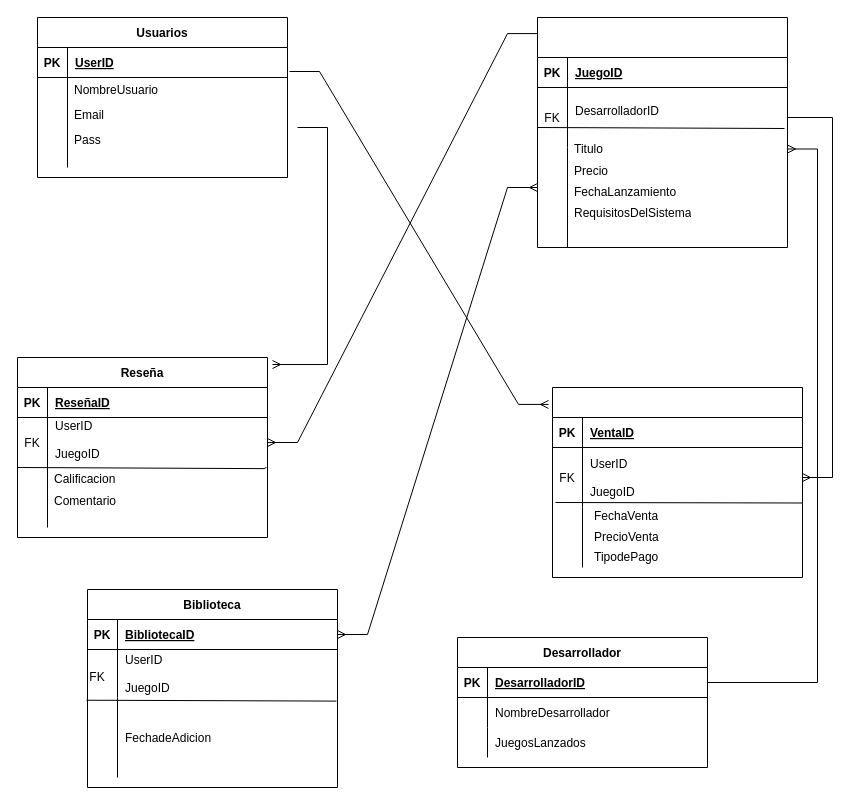
The diagram is 858 pixels wide and 805 high, and some of its shapes have lost their labels. Here are the shapes that lost their labels. From the top down, the box of each, then its label:
(536, 16, 788, 248): Videojuegos
(552, 386, 802, 578): Ventas(Compras)
